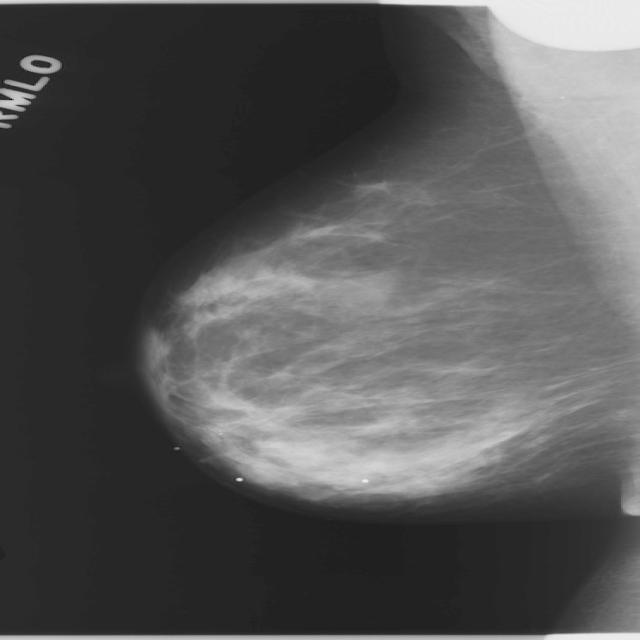tumour: (230, 457, 300, 490)
